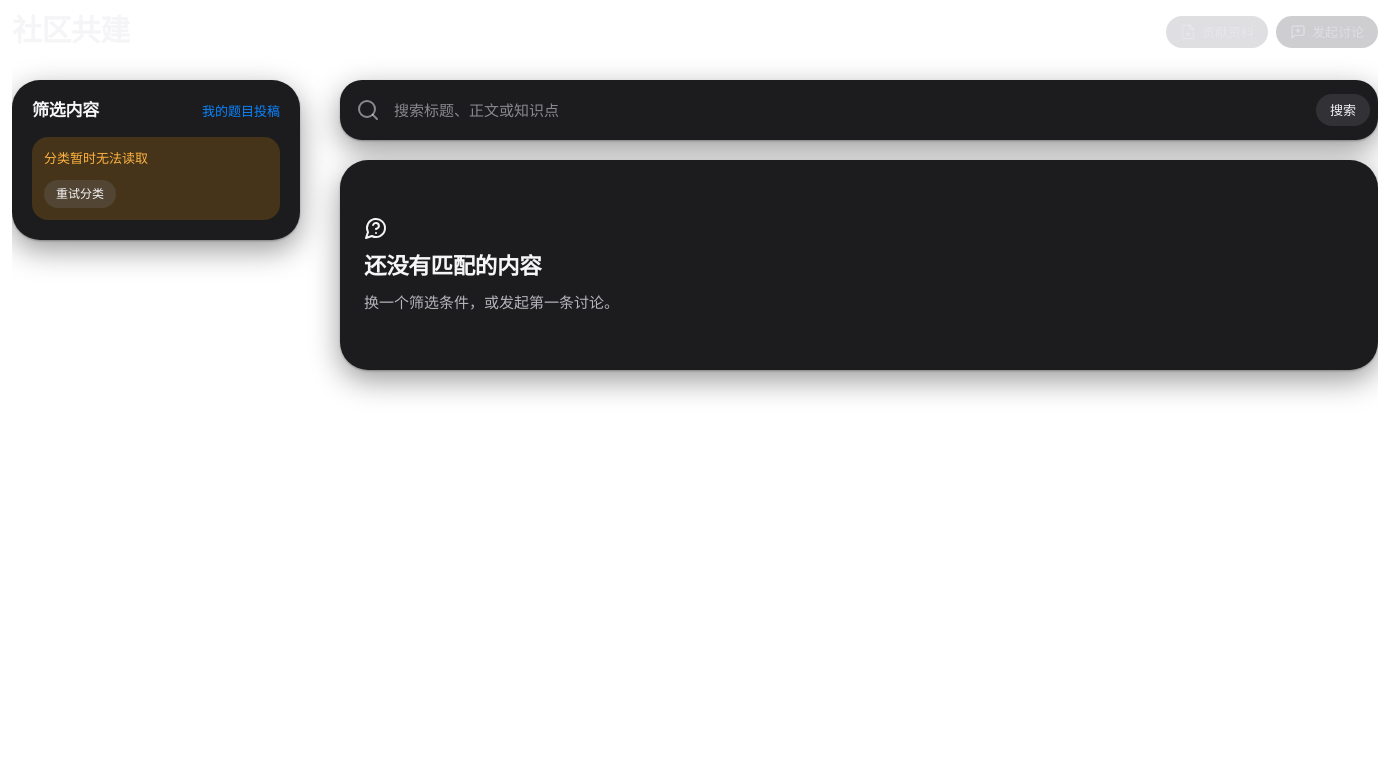
Test: community categories recovery › keeps category failures visible while the independent feed loads and retries only categories
Expected: the button "发起讨论" is disabled, [1276,16,1378,48]
Click the button "重试分类". click: (80, 194)
box: [44,180,116,208]
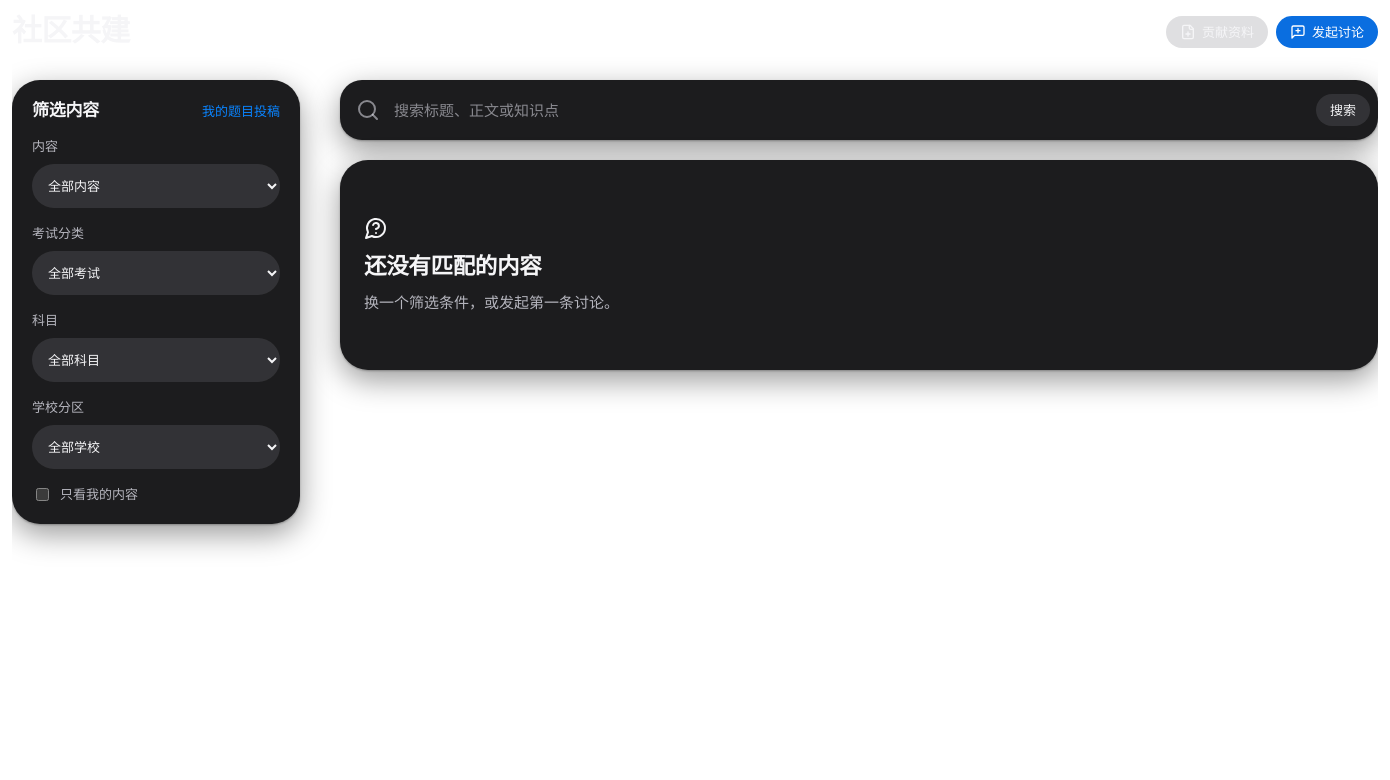
Now the text "分类暂时无法读取" is gone
